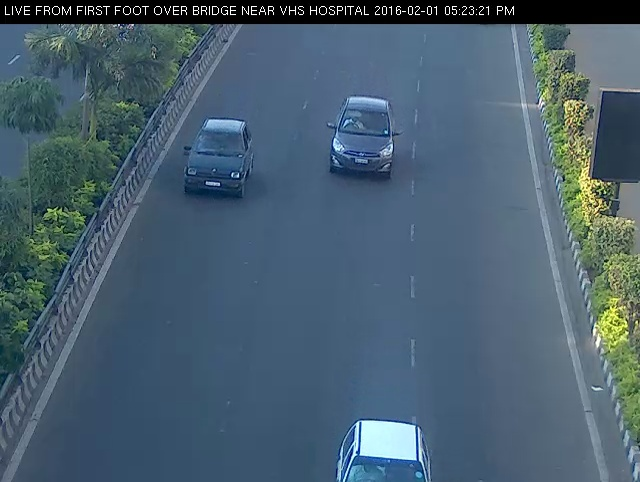Car: (315, 89, 412, 192), (166, 108, 260, 212), (319, 410, 450, 481)
